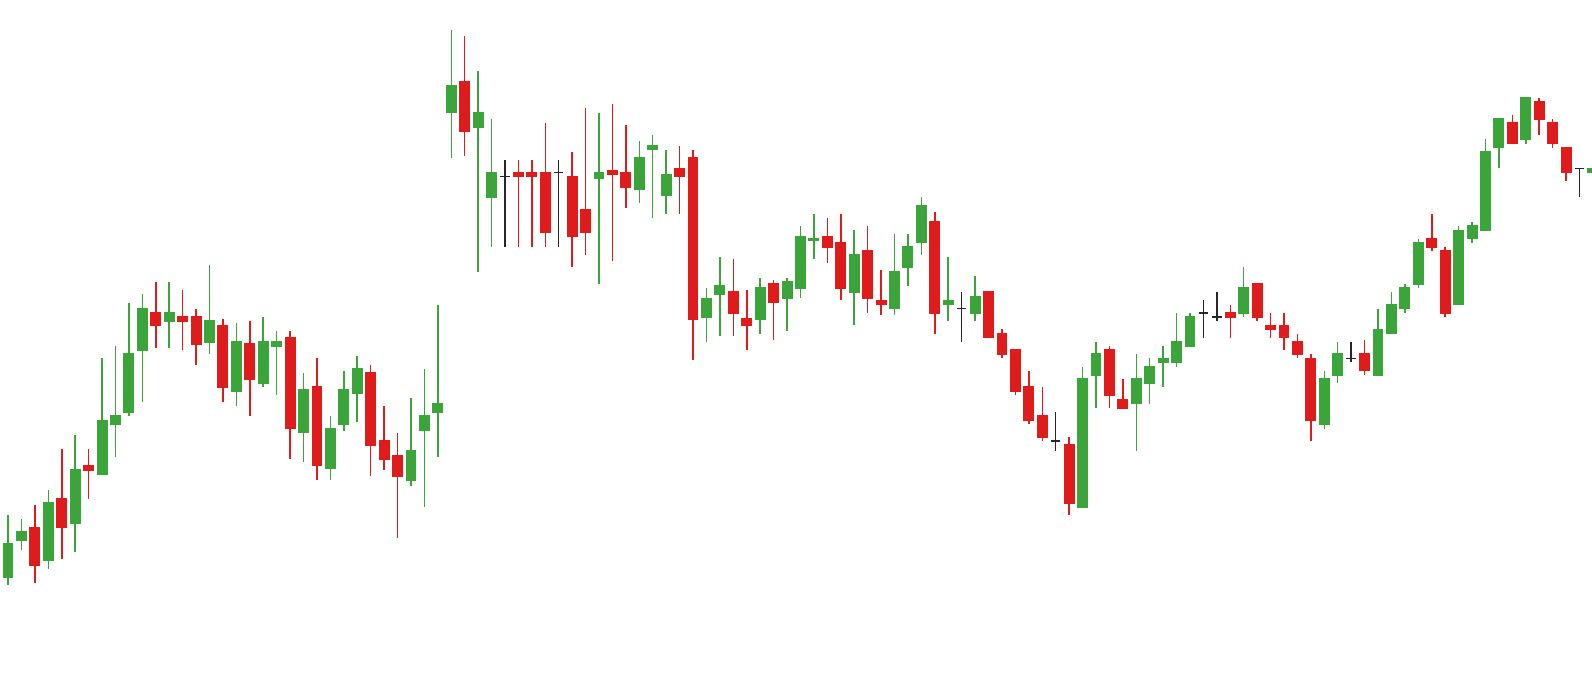sell: (847, 194, 944, 294)
